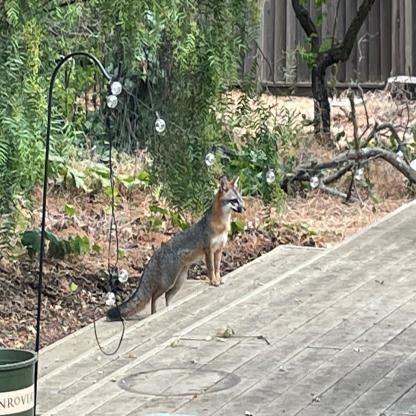zorro: (104, 168, 255, 331)
